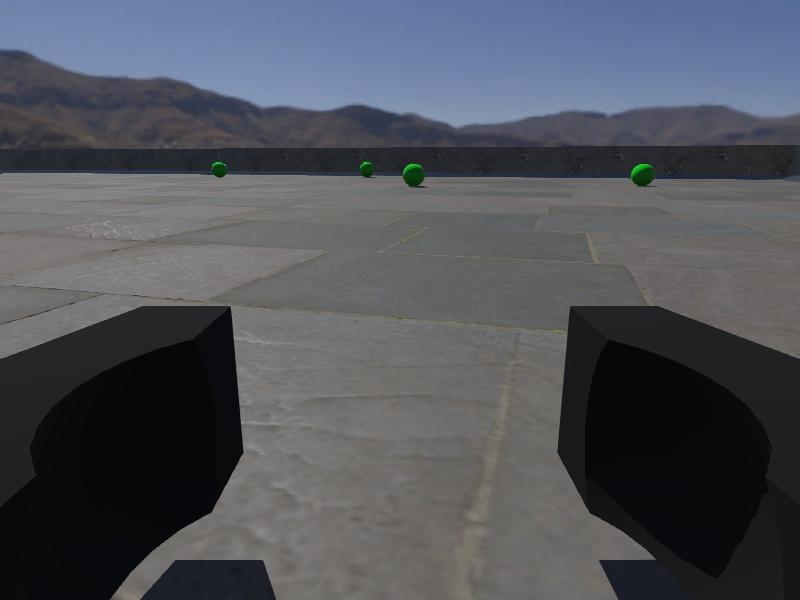green ball: (629, 162, 656, 188), (402, 162, 425, 188), (210, 160, 228, 178), (358, 160, 375, 178)
